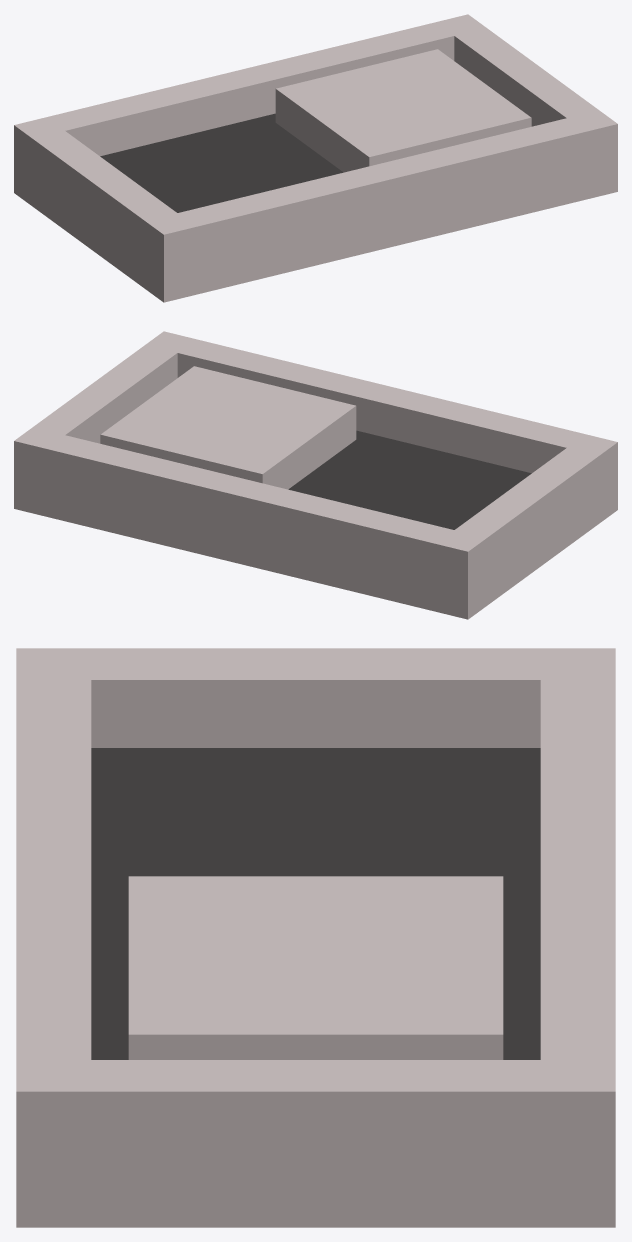
The model's file is switch.gltf.
3 renders of one model, top to bottom at view 1: azimuth 30°, elevation 25°; view 2: azimuth 150°, elevation 25°; view 3: azimuth 270°, elevation 25°, orthographic. The views are drawn at different scales.
Visible parts, largest first — view 1: mesh (×6); view 2: mesh (×6); view 3: mesh (×6).
Part boxes in pixels (box(x1,y1,x2,y2)): mesh (×6): box(14, 14, 617, 302); mesh (×6): box(14, 331, 617, 619); mesh (×6): box(16, 648, 615, 1227).
Bounding box in the file's own units: 0.4375 × 0.0625 × 0.25.
1 material, 1 textured.
